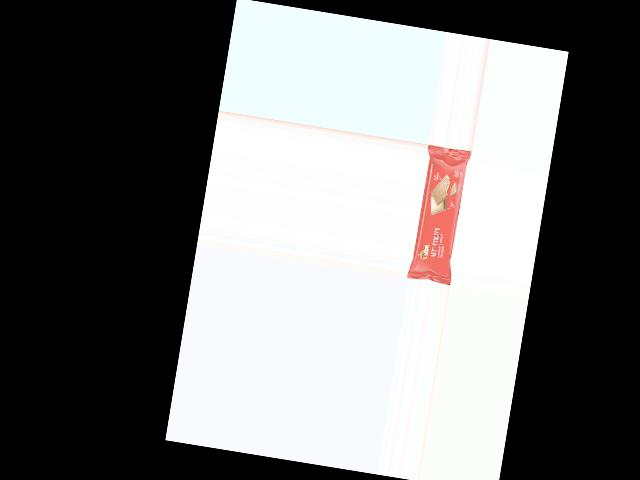chocolate: (407, 145, 472, 281)
